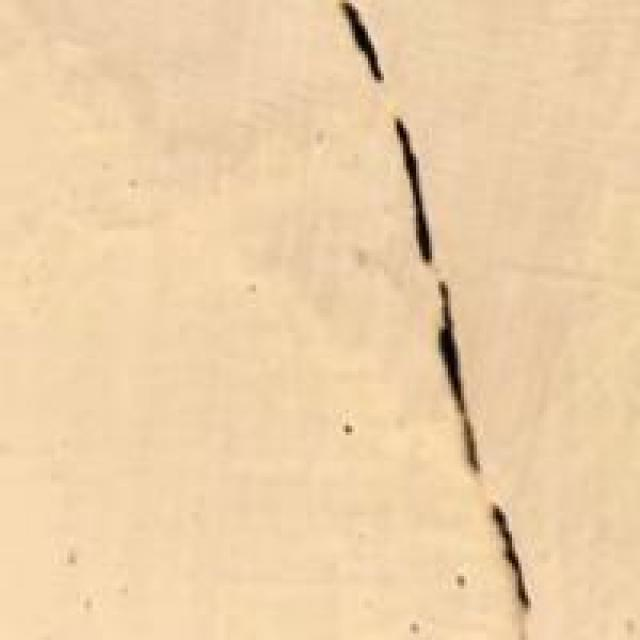crack: (308, 0, 614, 637)
